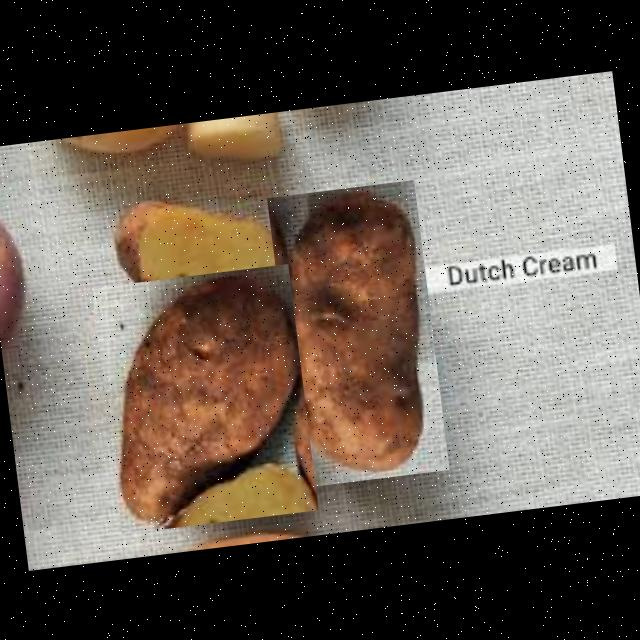Damaged potato: (91, 264, 318, 534), (267, 180, 449, 488)
